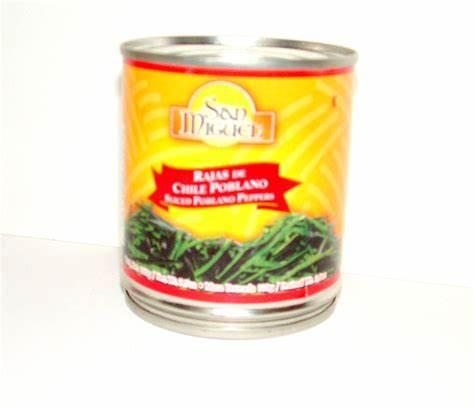metal: (121, 36, 358, 338)
